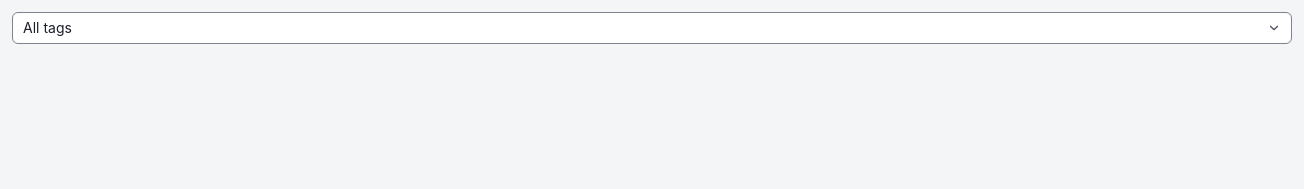
Test: empty options and a real sentinel-like value remain distinct and round-trip through selection
Press ArrowDown in the dropdown named "Fictional tag", box [12,12,1292,44]
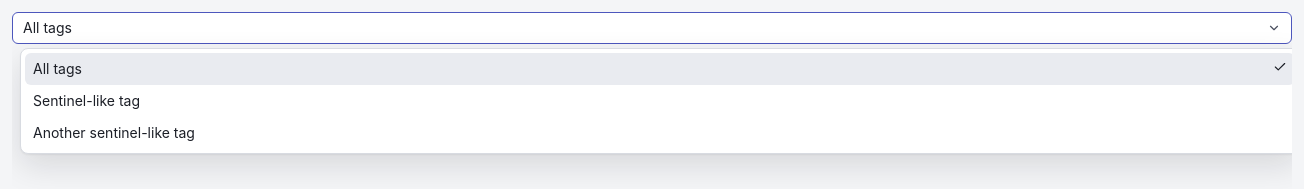
Click the option "Sentinel-like tag": (86, 100) [33,92,140,109]
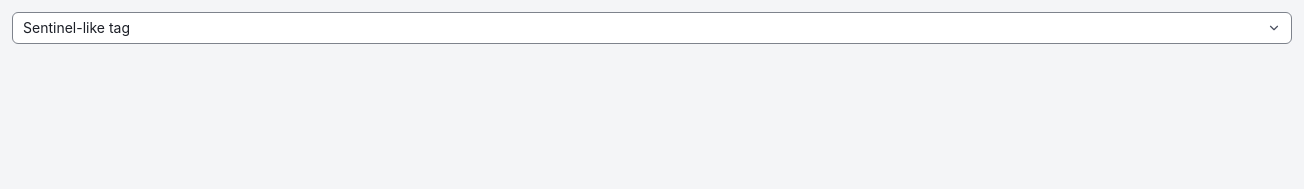
Press ArrowDown in the dropdown named "Fictional tag", box [12,12,1292,44]
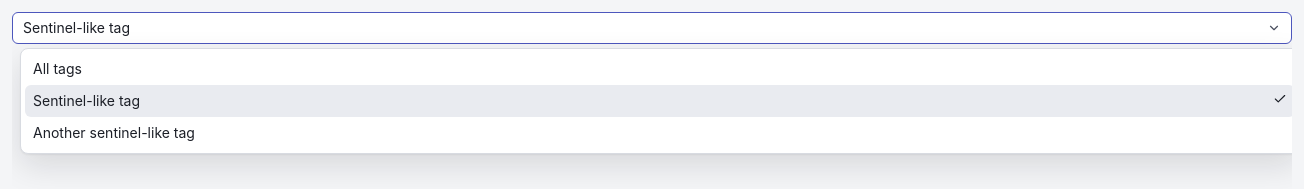
Click the option "Another sentinel-like tag": (114, 132) [33,124,195,141]
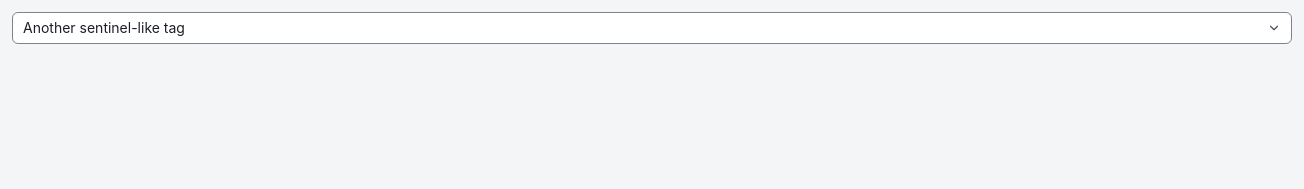
Press ArrowDown in the dropdown named "Fictional tag", box [12,12,1292,44]
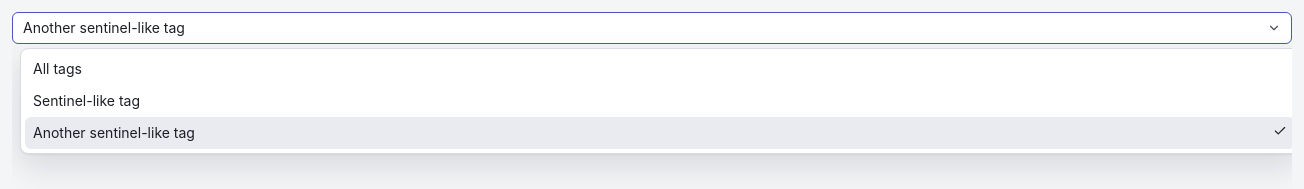
Click the option "All tags": (57, 68) [33,60,82,77]
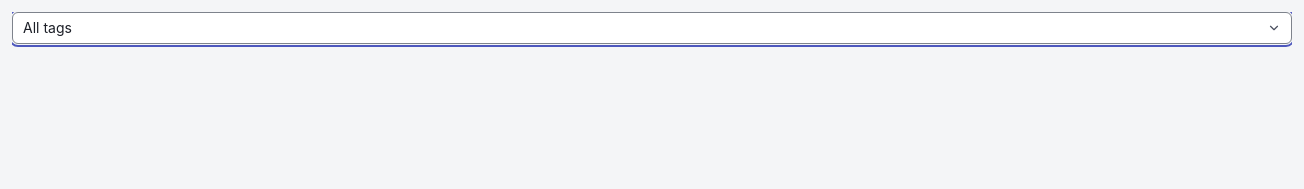
Expected: the dropdown named "Fictional tag" reads "All tags", [12,12,1292,44]
